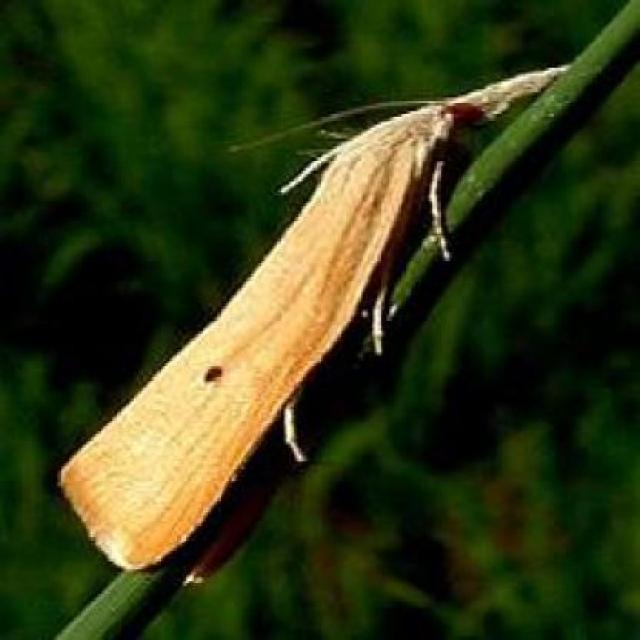stem-borer: (46, 50, 593, 592)
